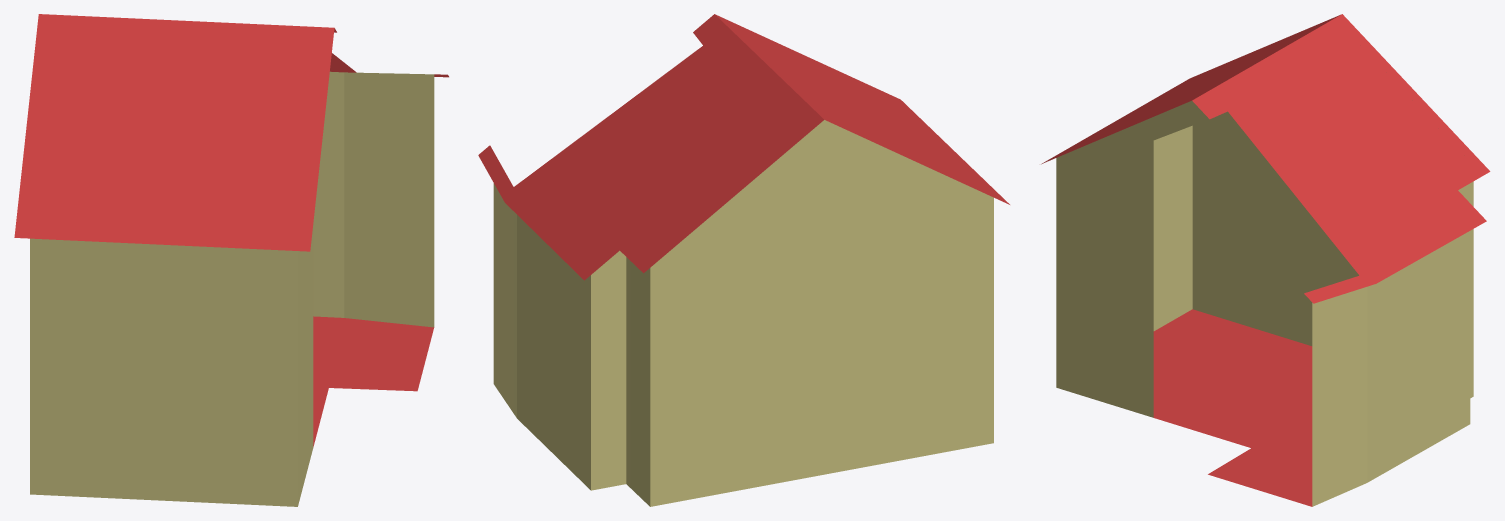
The picture shows the model from 3 angles, left to right: view 1: azimuth 30°, elevation 25°; view 2: azimuth 150°, elevation 25°; view 3: azimuth 270°, elevation 25°; orthographic projection. The views are drawn at different scales.
Bounding box in the file's own units: 20.88 × 18.81 × 15.44.
